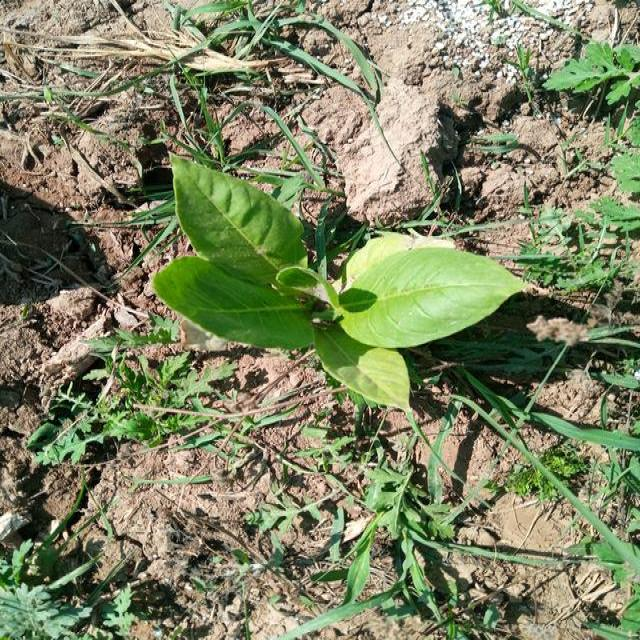crop: (149, 150, 544, 415)
